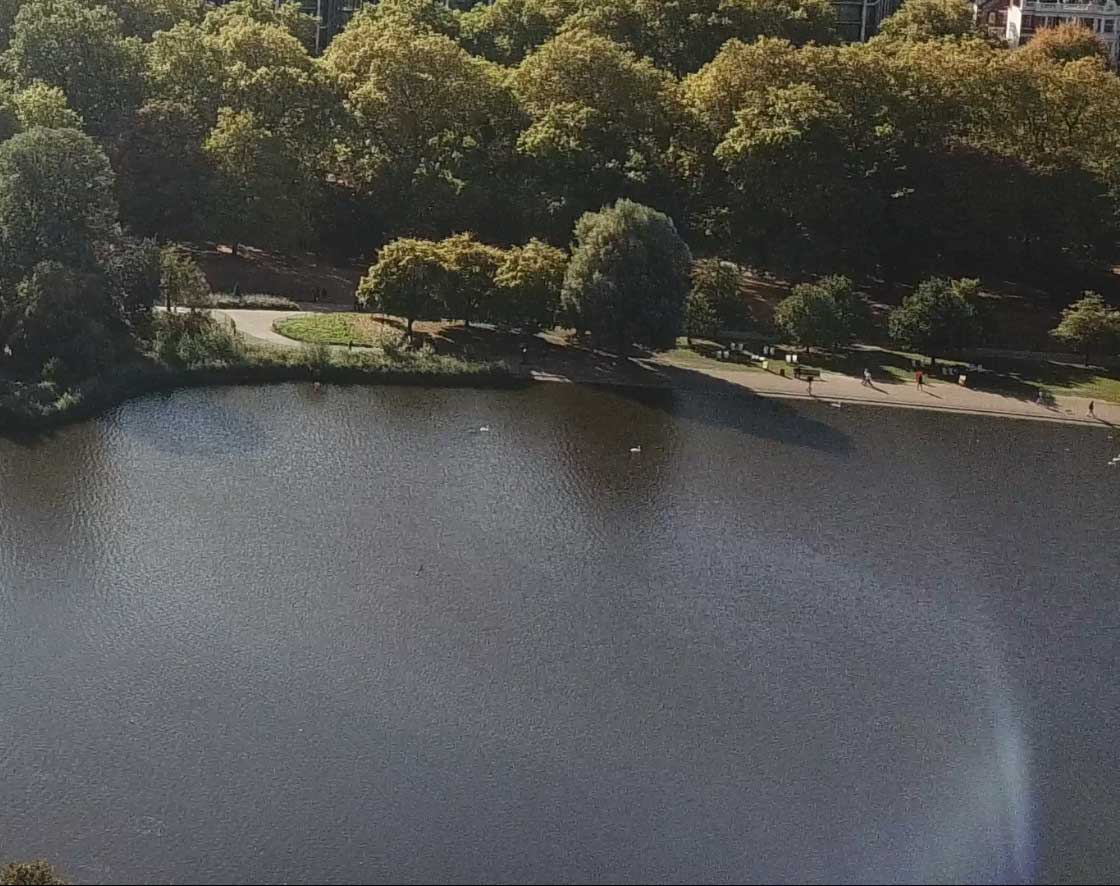trees: (1, 1, 1112, 230)
water: (20, 442, 1100, 872)
